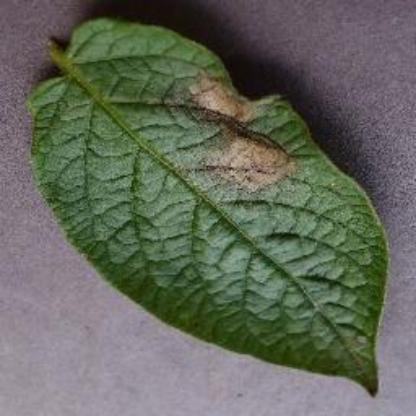Late-Blight: (21, 11, 397, 404)
